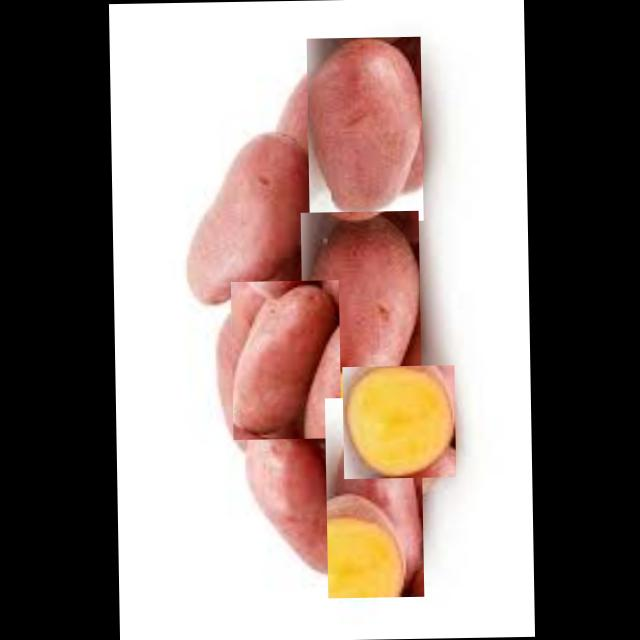Defected potato: (178, 130, 312, 311), (300, 210, 420, 410), (305, 36, 422, 222), (323, 396, 422, 598), (229, 280, 340, 440), (240, 420, 346, 581)
Potato: (341, 364, 455, 478)
